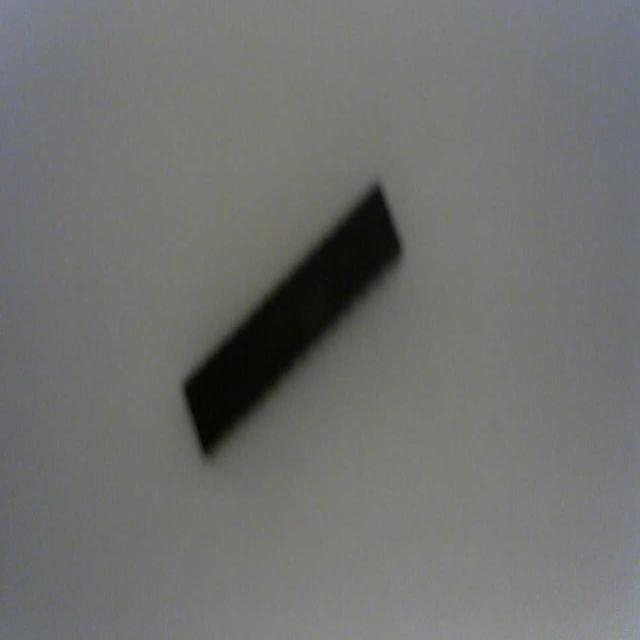atmega: (179, 175, 405, 461)
